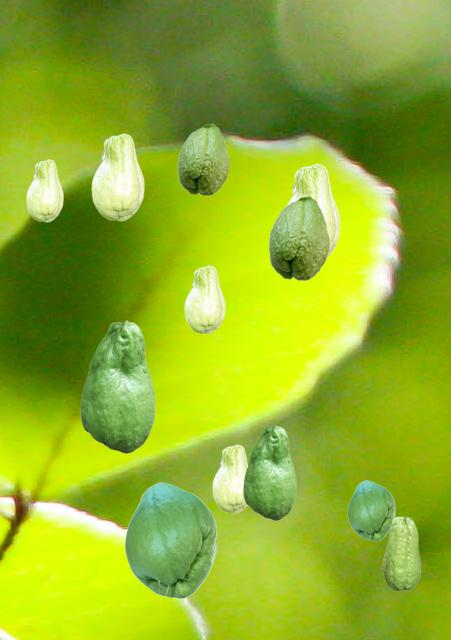sayote: (124, 482, 216, 598), (80, 320, 154, 452), (268, 195, 329, 280), (286, 163, 339, 257), (243, 425, 295, 519), (91, 133, 143, 220), (177, 123, 229, 195), (347, 480, 394, 540), (382, 516, 420, 590), (184, 265, 224, 333), (212, 444, 247, 512), (26, 159, 62, 221)
